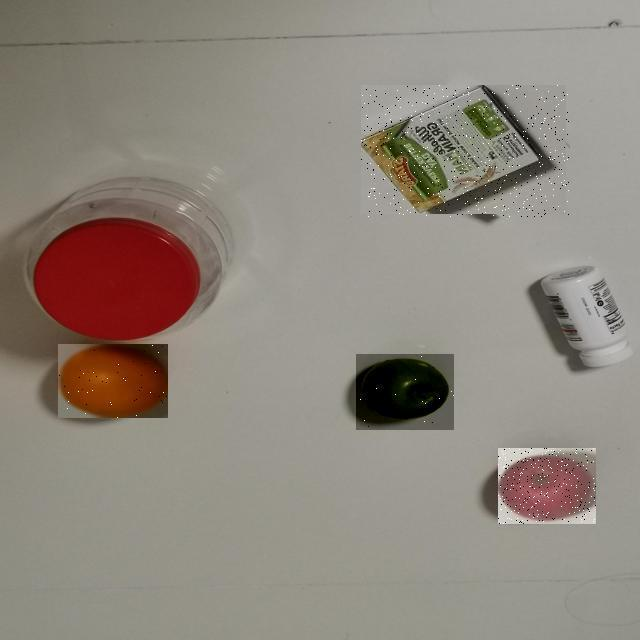Apple: (499, 448, 597, 524), (356, 354, 454, 430)
Cereal: (362, 86, 570, 218)
Orange: (58, 345, 168, 419)
